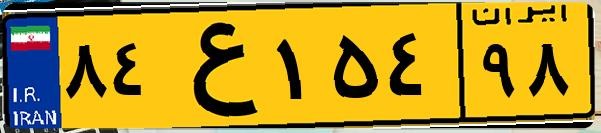1: (270, 28, 330, 110)
4: (385, 28, 445, 110), (110, 28, 158, 98)
5: (330, 28, 385, 110)
8: (57, 26, 110, 100), (525, 38, 570, 115)
9: (475, 38, 525, 113)
ع: (158, 12, 270, 120)
